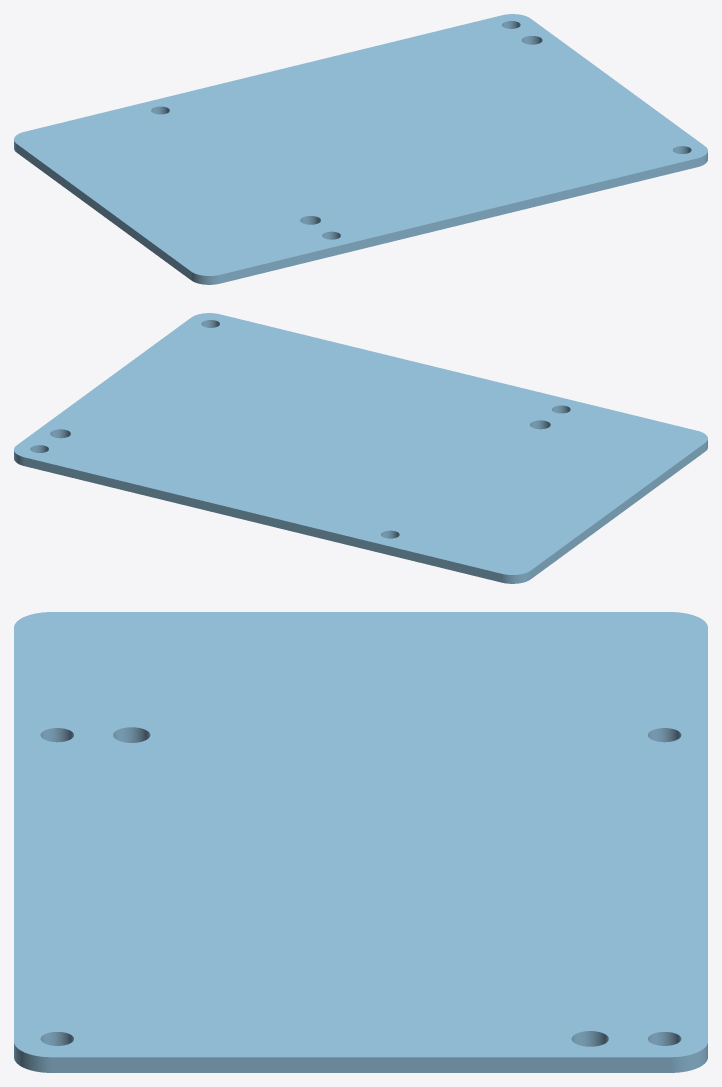
Rendered from PCB_for_REF_060923.obj.
3 views of the same model, one above another, from view 1: azimuth 30°, elevation 25°; view 2: azimuth 150°, elevation 25°; view 3: azimuth 270°, elevation 25° (orthographic). The views are drawn at different scales.
Visible parts, largest first — view 1: mesh716, mesh719, mesh718; view 2: mesh716, mesh721, mesh718; view 3: mesh716, mesh720.
Part boxes in pixels (x1,y1,x2,y2): mesh716: [14, 14, 707, 275]; mesh719: [220, 158, 697, 283]; mesh718: [16, 144, 191, 279]; mesh716: [14, 313, 707, 574]; mesh721: [24, 457, 501, 582]; mesh718: [530, 443, 705, 578]; mesh716: [14, 612, 707, 1057]; mesh720: [51, 1057, 670, 1072].
Size of the model in its own units: 0.085 by 0.0014 by 0.056.
